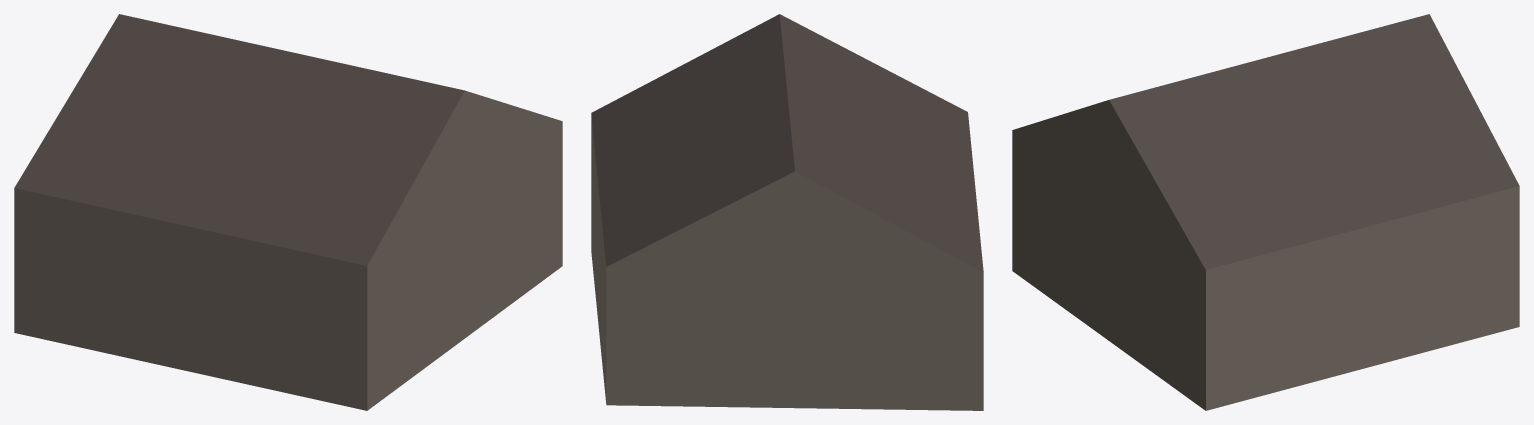
3 views of the same model, side by side, from view 1: azimuth 30°, elevation 25°; view 2: azimuth 150°, elevation 25°; view 3: azimuth 270°, elevation 25° (orthographic). The views are drawn at different scales.
Parts seen in each view (by area): view 1: HP-w1513026699; view 2: HP-w1513026699; view 3: HP-w1513026699.
Part boxes in pixels (box(x1,y1,x2,y2)): HP-w1513026699: box(14, 14, 562, 410); HP-w1513026699: box(591, 14, 983, 410); HP-w1513026699: box(1012, 14, 1519, 410).
Bounding box in the file's own units: 20.79 × 10.27 × 19.59.
